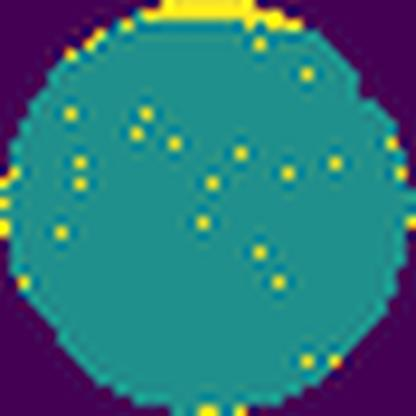Edge-Loc: (126, 0, 306, 36)
